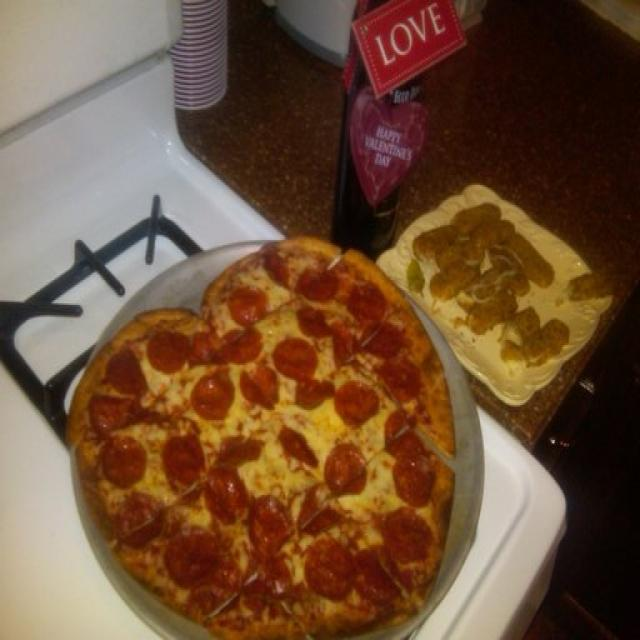Pepperoni: (167, 531, 211, 591), (246, 553, 297, 601), (123, 493, 164, 552), (385, 508, 428, 563), (309, 542, 349, 599), (248, 501, 286, 557), (326, 447, 366, 499), (168, 432, 202, 492), (104, 351, 148, 397), (106, 438, 148, 486), (396, 458, 436, 507), (207, 466, 240, 525), (192, 371, 226, 425), (91, 397, 143, 432), (357, 552, 392, 604), (379, 359, 421, 402), (340, 385, 380, 426), (385, 413, 421, 457), (150, 331, 190, 370), (241, 366, 276, 409), (275, 338, 313, 374), (189, 332, 229, 365), (282, 426, 316, 464), (349, 286, 383, 322), (231, 290, 266, 323), (226, 330, 262, 362), (296, 380, 334, 410), (218, 441, 260, 467), (298, 269, 336, 296), (368, 326, 402, 356), (299, 307, 331, 337), (307, 509, 342, 535), (264, 255, 288, 288), (332, 330, 353, 366)
Pizza: (70, 238, 455, 640)
